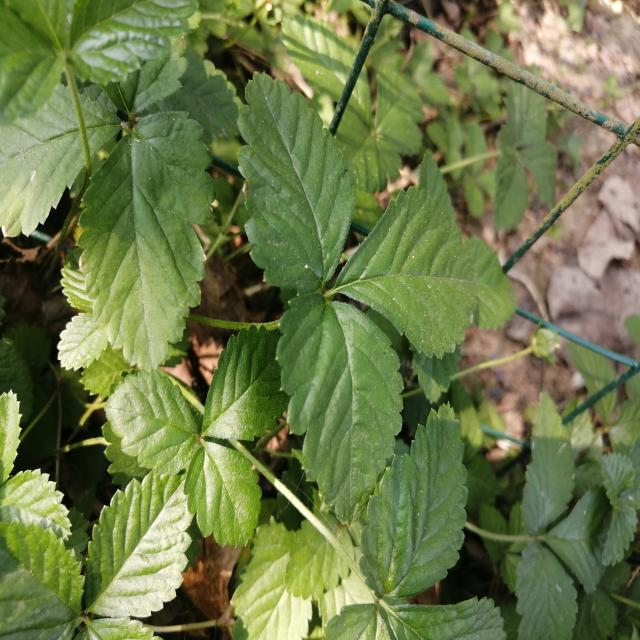Mock_strawberry: (236, 40, 502, 492)
